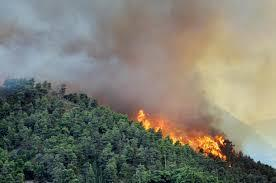fire: (135, 108, 228, 161)
yanwu: (1, 1, 219, 135)
